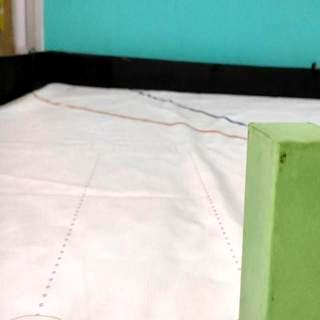greenbox: (239, 122, 320, 320)
